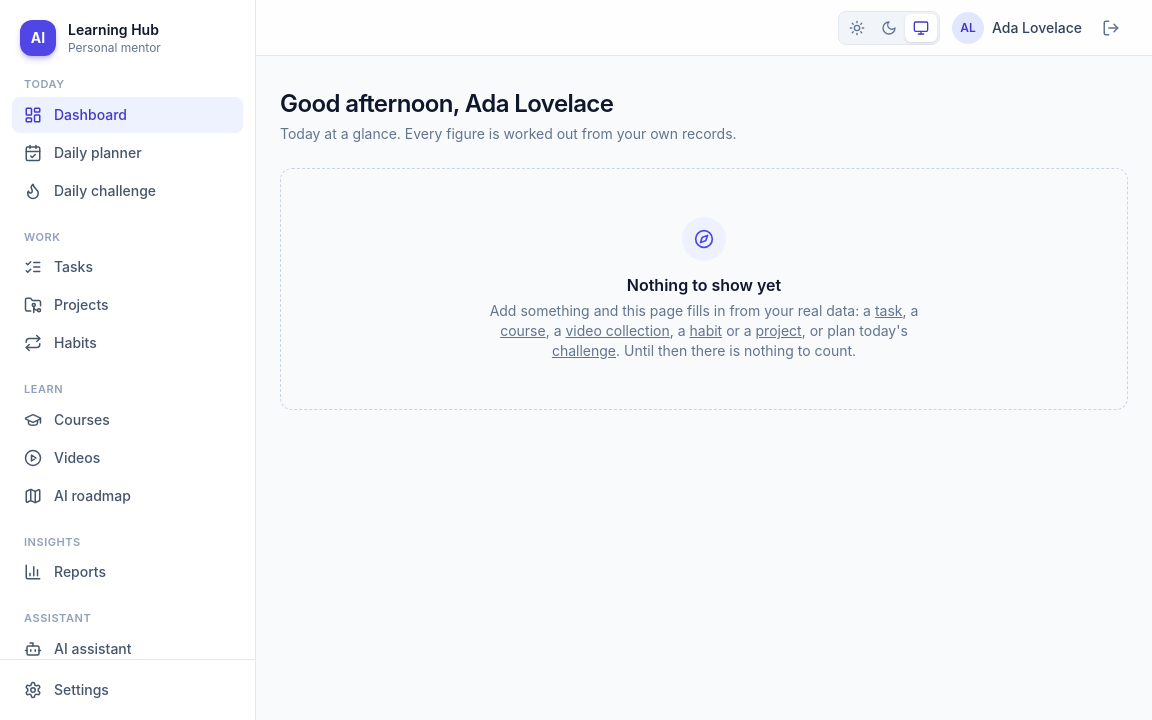
it: navigation › navigates between pages when a sidebar link is clicked
Click the link "Habits" at (60, 343), box [24,334,97,352]
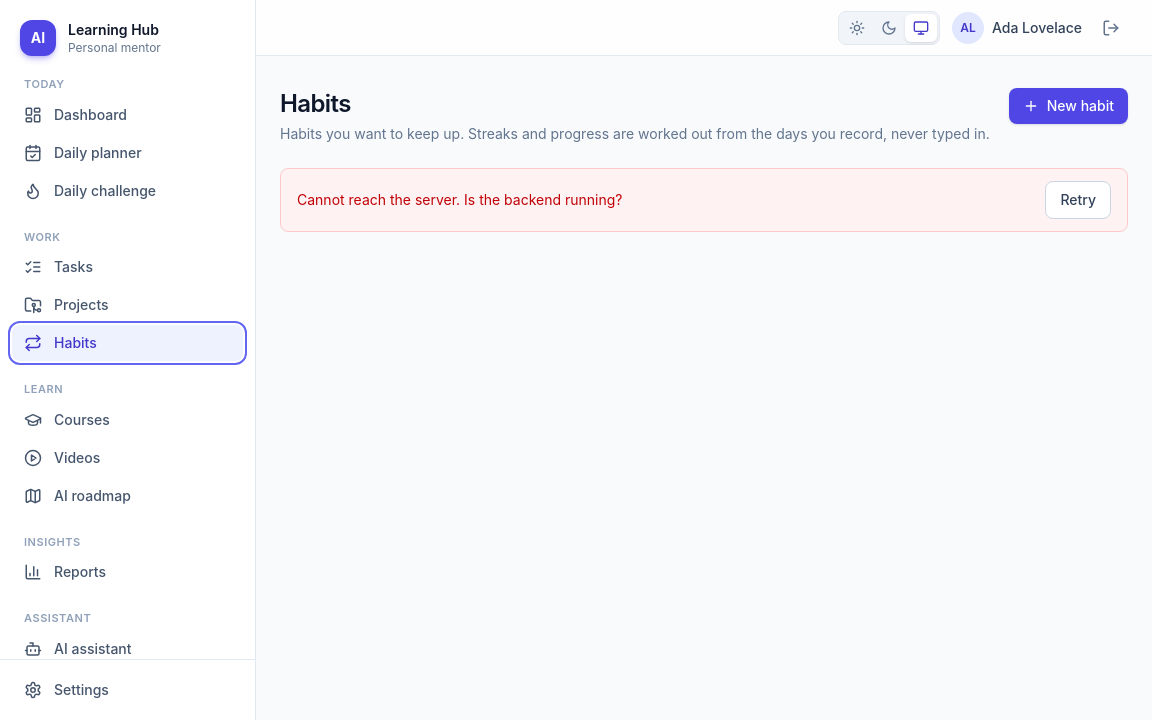
Expected: the heading "Habits" is shown, [280,89,351,118]
